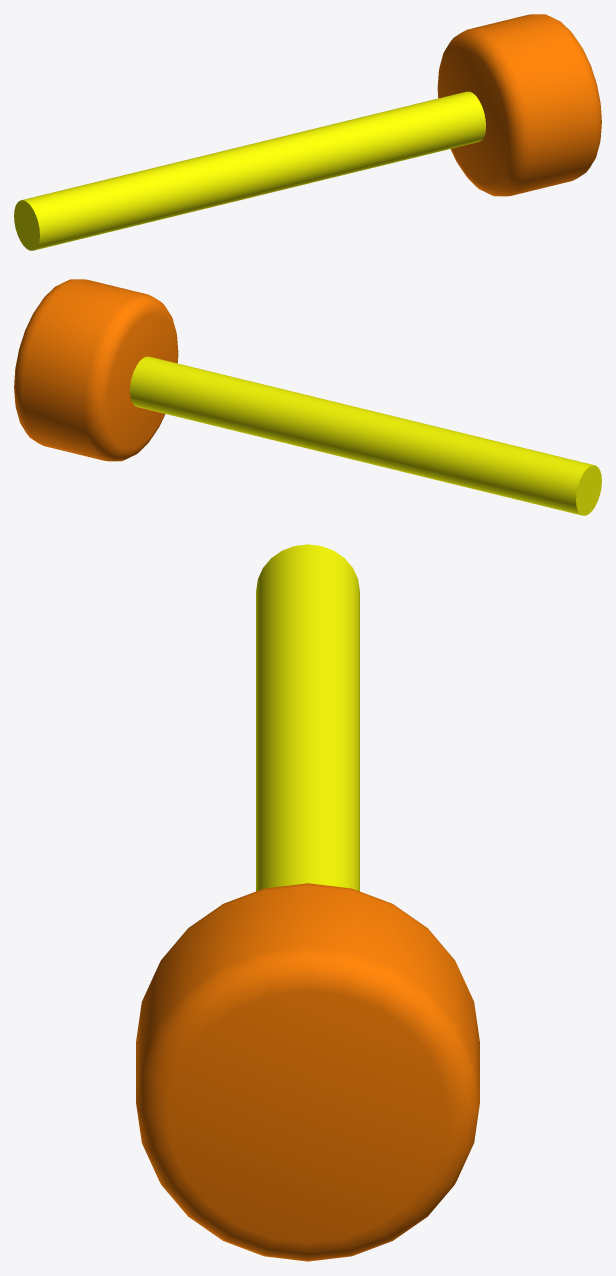
File: hammer trap.fbx
3 renders of one model, top to bottom at view 1: azimuth 30°, elevation 25°; view 2: azimuth 150°, elevation 25°; view 3: azimuth 270°, elevation 25°, orthographic. The views are drawn at different scales.
Parts seen in each view (by area): view 1: hammer trap; view 2: hammer trap; view 3: hammer trap.
Part boxes in pixels (x1,y1,x2,y2): hammer trap: (14,14,601,250); hammer trap: (14,279,601,515); hammer trap: (136,544,479,1261).
Bounding box in the file's own units: 408 × 113 × 113.
